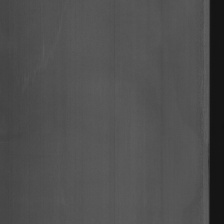silk_spot: (12, 18, 68, 94)
